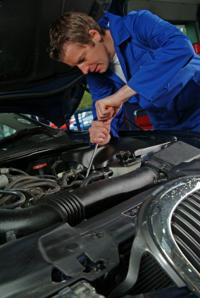person: (48, 9, 200, 151)
